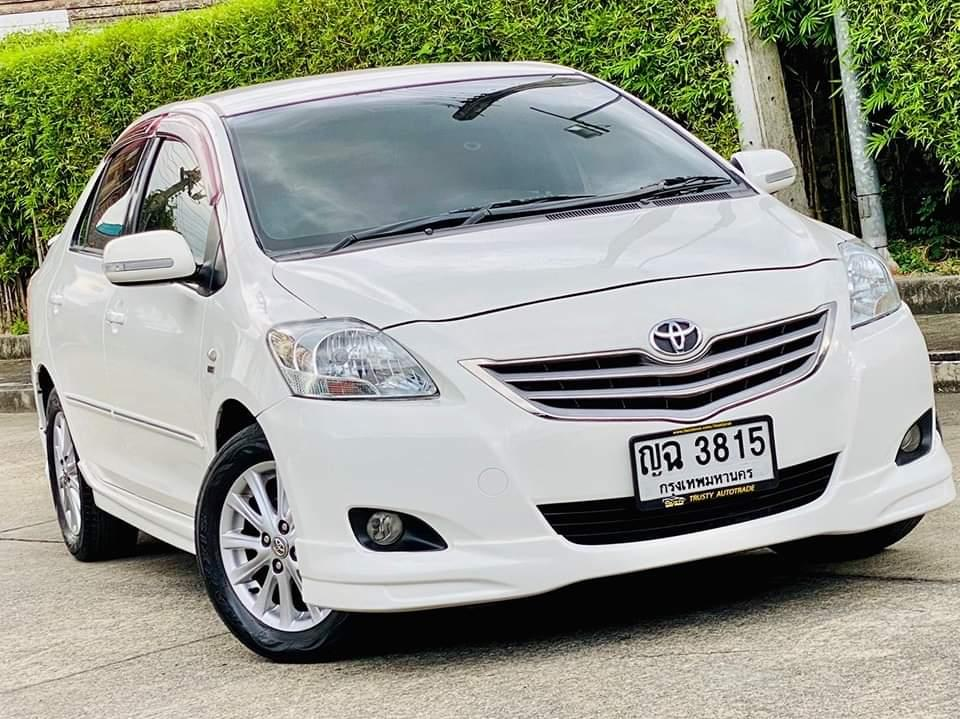license-plate: (628, 411, 784, 510)
